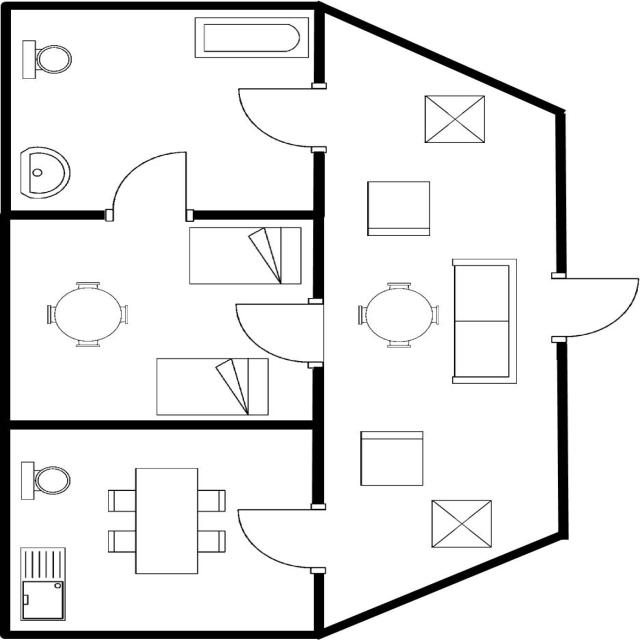bed: (183, 223, 305, 289), (149, 354, 274, 418)
coffee_table: (424, 493, 496, 556), (415, 90, 489, 148)
dining_table: (102, 462, 231, 578)
large_sink: (14, 456, 74, 506), (19, 35, 74, 84)
large_sofa: (443, 253, 520, 388)
round_table: (38, 276, 133, 351), (352, 276, 441, 354)
sink: (14, 542, 70, 625)
small_sink: (15, 144, 75, 202)
small_sofa: (360, 176, 437, 242), (356, 428, 426, 490)
tub: (189, 13, 314, 65)
